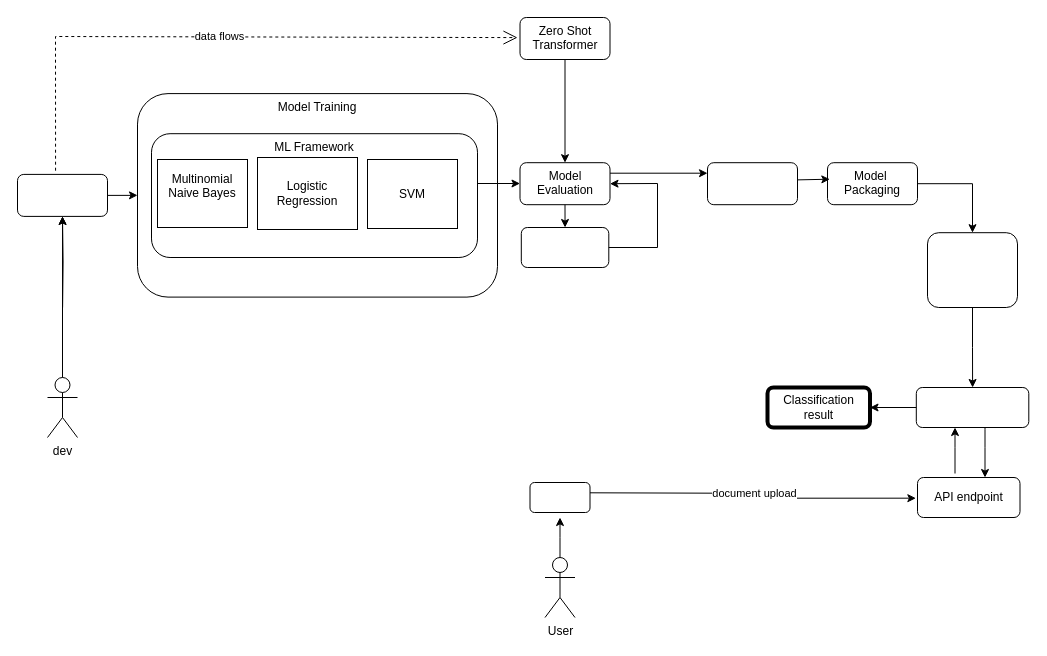
Some shapes in this 1047 by 656 pixel diagram are drawn without their labels. The shapes that lost their labels are listed below. From the top down, each one's centre as x and y in pixels, then its label:
point 62,194: Data Preparation
point 752,183: BentoML integration
point 564,247: Model Testing
point 972,270: BentoML Configuration for Data Serialization
point 972,407: Model Serving
point 559,497: GUI
